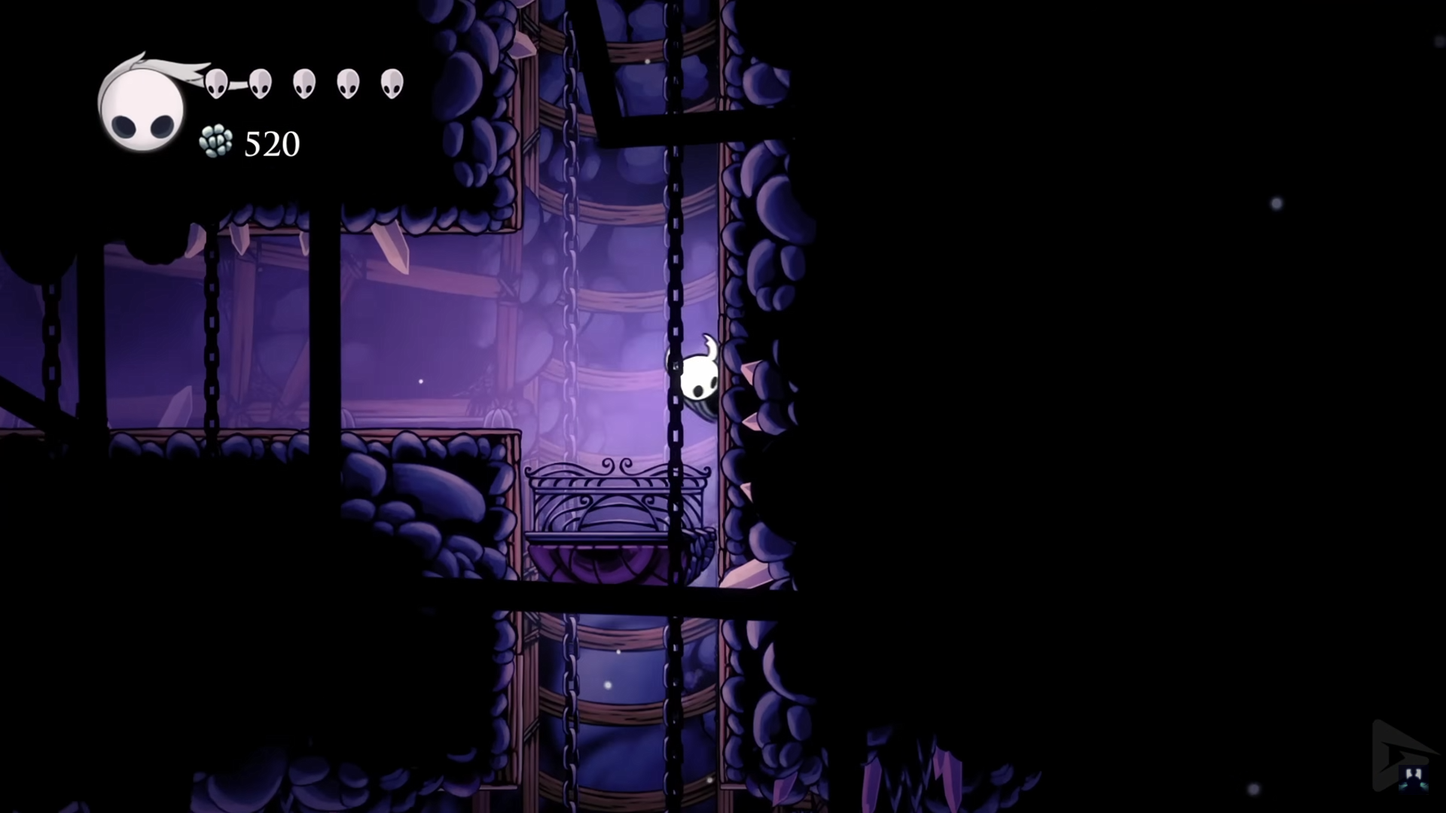HK: (672, 330, 731, 430)
